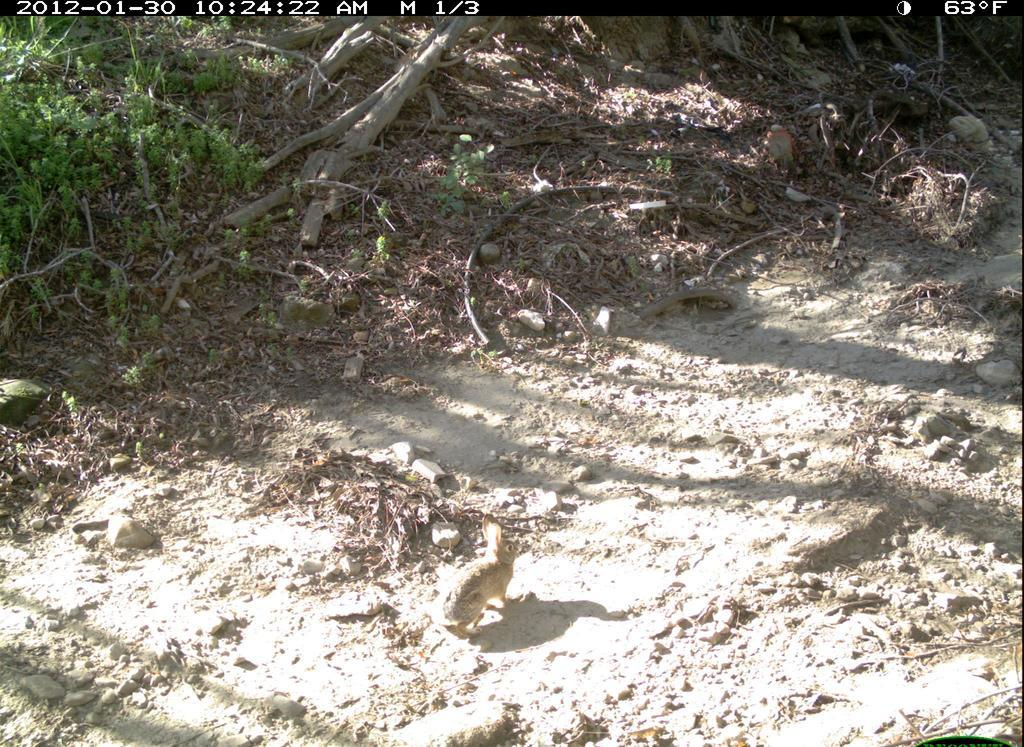rabbit: (427, 507, 525, 649)
